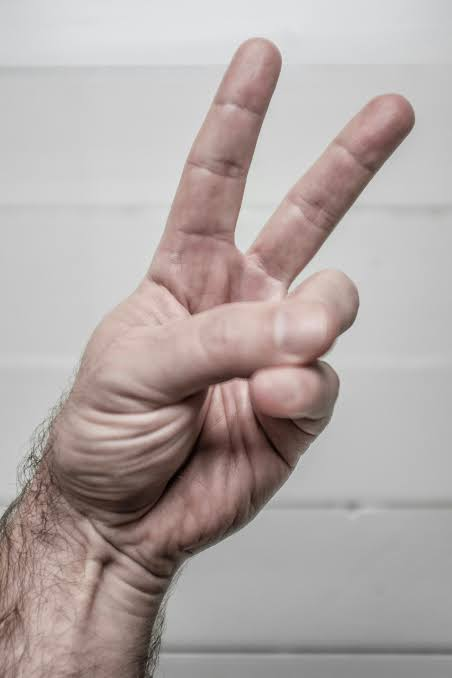peace_sign: (35, 30, 443, 537)
